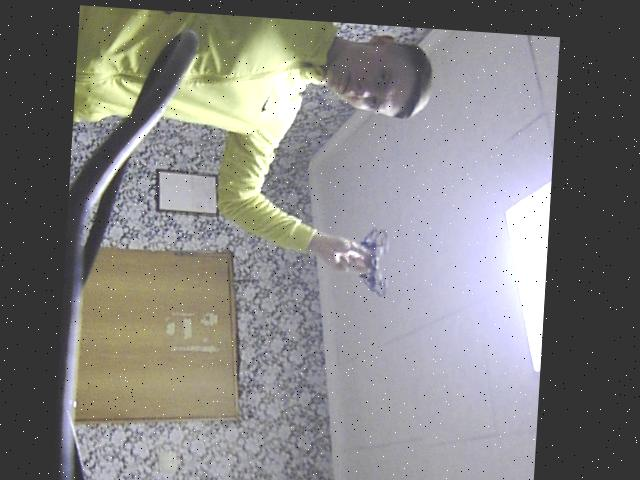drone: (354, 219, 402, 292)
